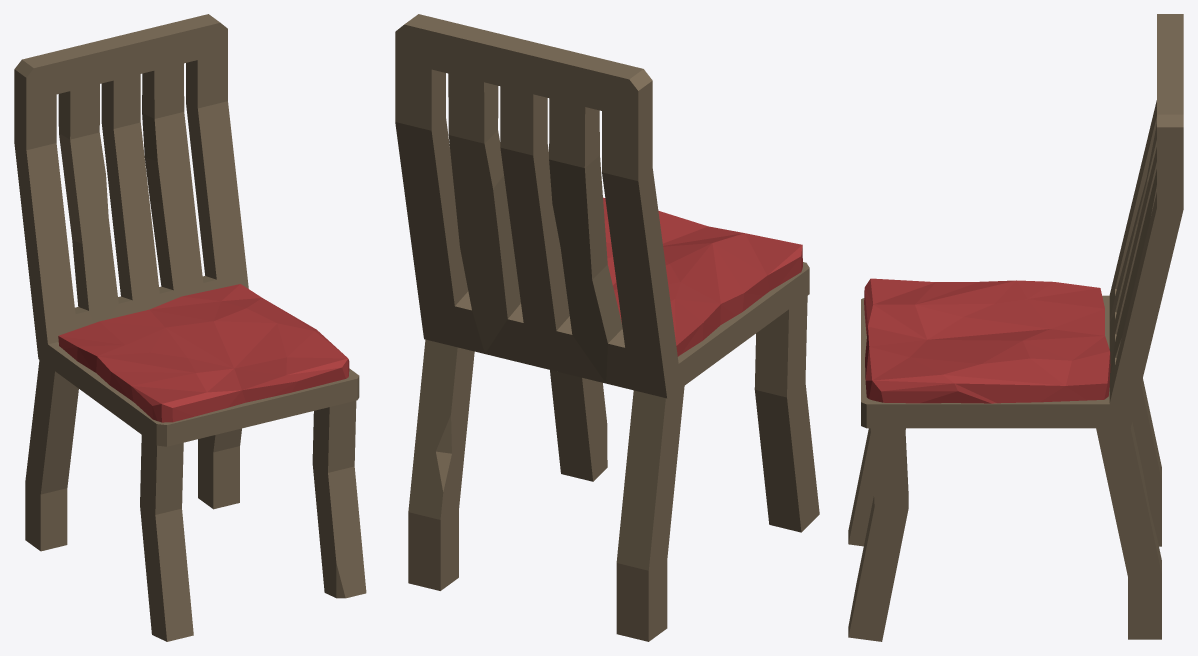
The model's file is SM_Props_City_Beach_Chair_01.fbx.
3 renders of one model, left to right at view 1: azimuth 30°, elevation 25°; view 2: azimuth 150°, elevation 25°; view 3: azimuth 270°, elevation 25°, orthographic. The views are drawn at different scales.
Visible parts, largest first — view 1: SM_Props_City_Beach_Chair_01; view 2: SM_Props_City_Beach_Chair_01; view 3: SM_Props_City_Beach_Chair_01.
Boxes of the visible parts, x1,y1,x2,y2 form: SM_Props_City_Beach_Chair_01: [14, 14, 366, 641]; SM_Props_City_Beach_Chair_01: [395, 14, 819, 641]; SM_Props_City_Beach_Chair_01: [848, 14, 1183, 641].
Bounding box in the file's own units: 46.85 × 105 × 61.01.
